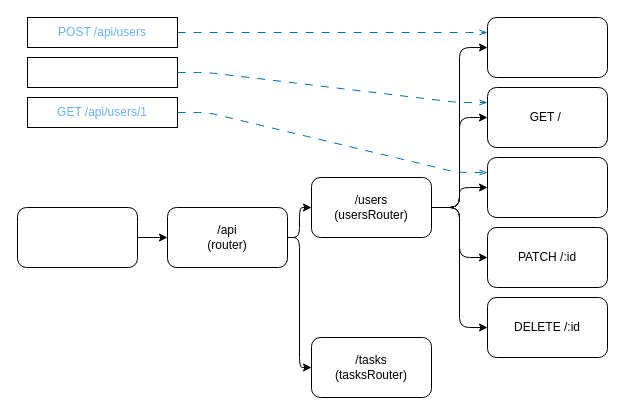
This 625x415 diagram has some shape labels left out. The centre of each missing label's shape, as x and y in pixels:
"/ (app)" belongs at pixel 77 237.
"GET /:id" belongs at pixel 547 187.
"GET /api/users?page=1&results=10" belongs at pixel 102 72.
"POST /" belongs at pixel 547 47.
